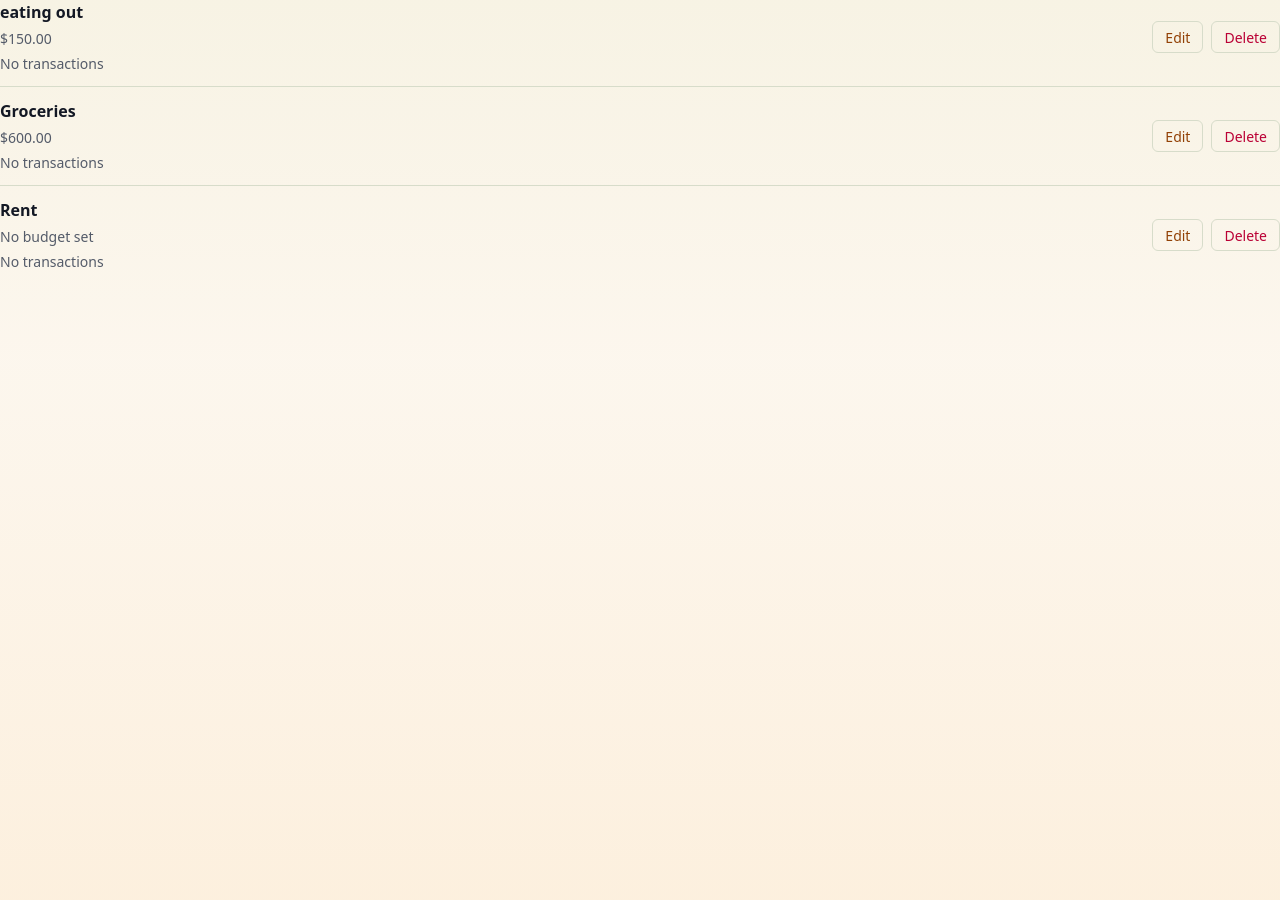
Scenario: CategoryList › changes the budget, including clearing it to no budget
The width and height of the screenshot is (1280, 900).
Click the button with aria-label "Edit Groceries, $600.00" at (1178, 136), box left=1152, top=120, right=1204, bottom=152
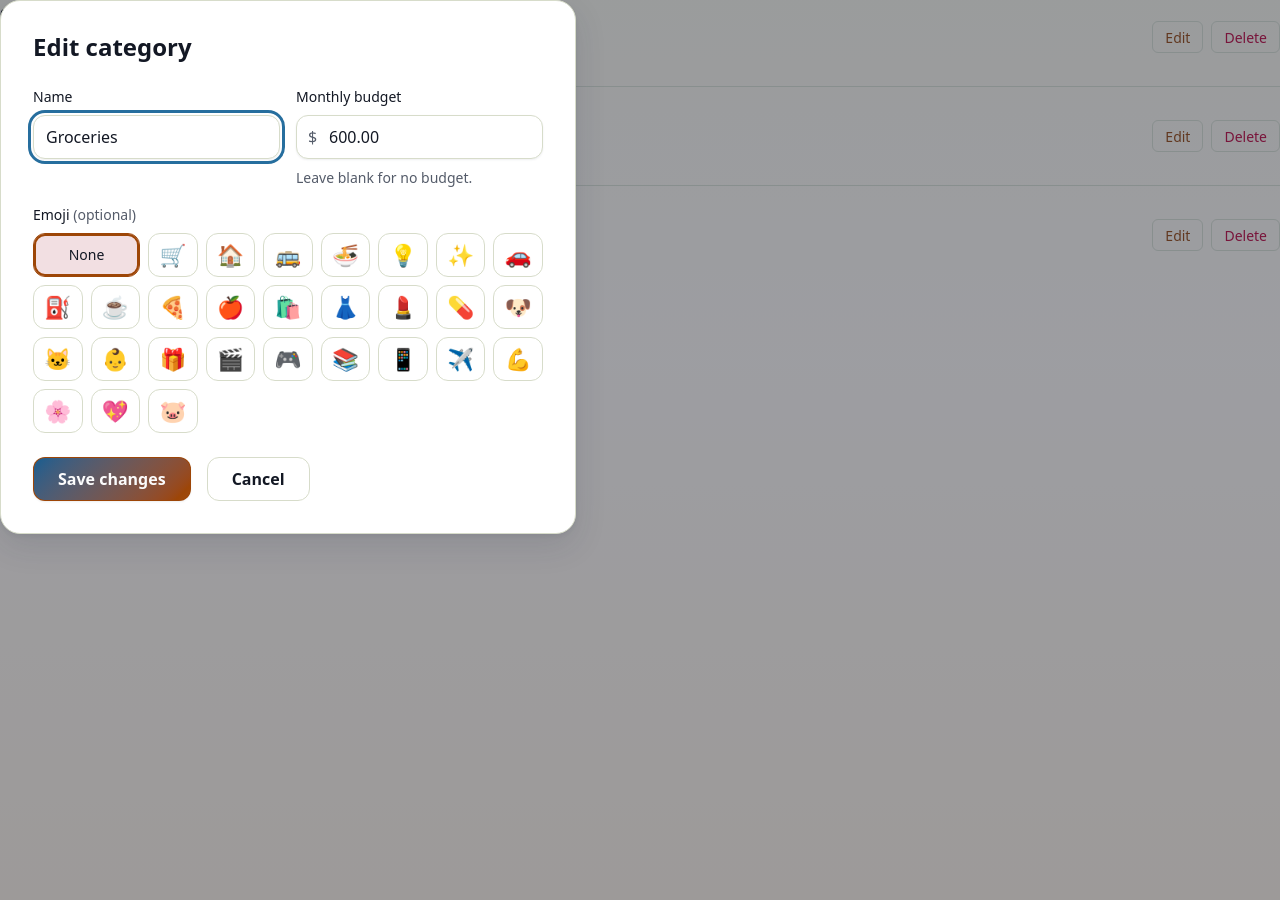
Clear the field labelled "Monthly budget" at (420, 137), box left=296, top=115, right=543, bottom=159
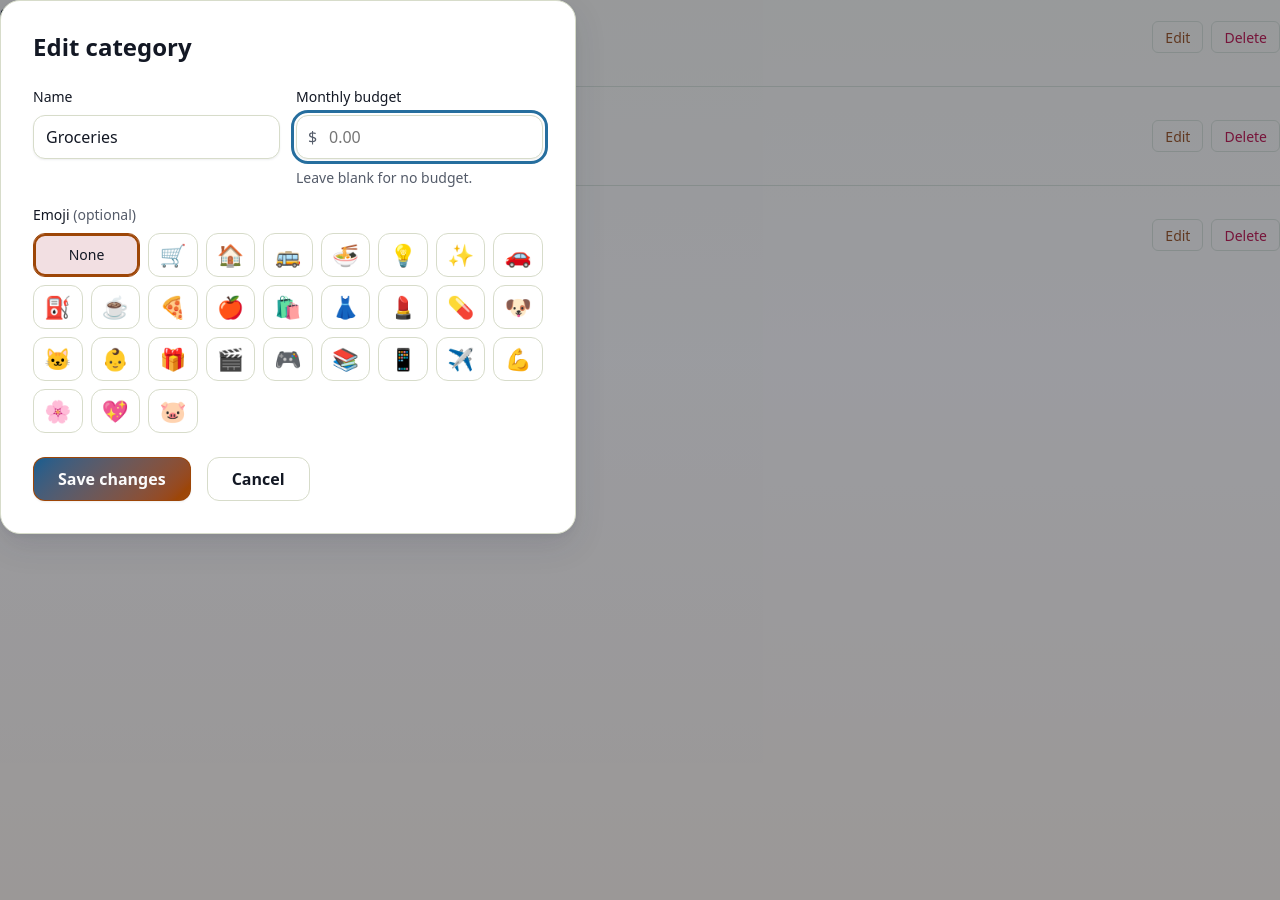
Click the button "Save changes" at (112, 479), box left=33, top=457, right=191, bottom=501
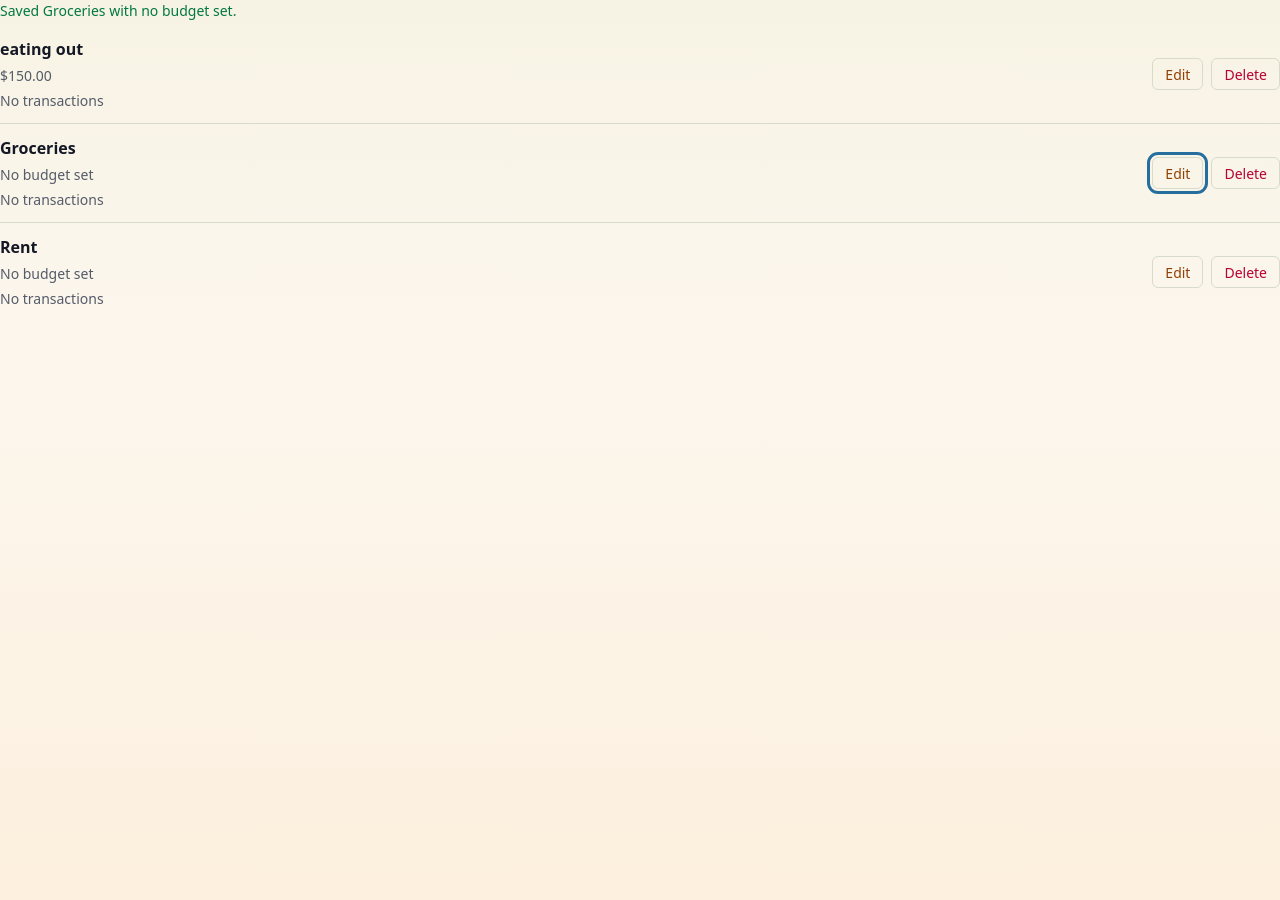
Expected: the message reads "Saved Groceries with no budget set.", left=0, top=1, right=236, bottom=20
